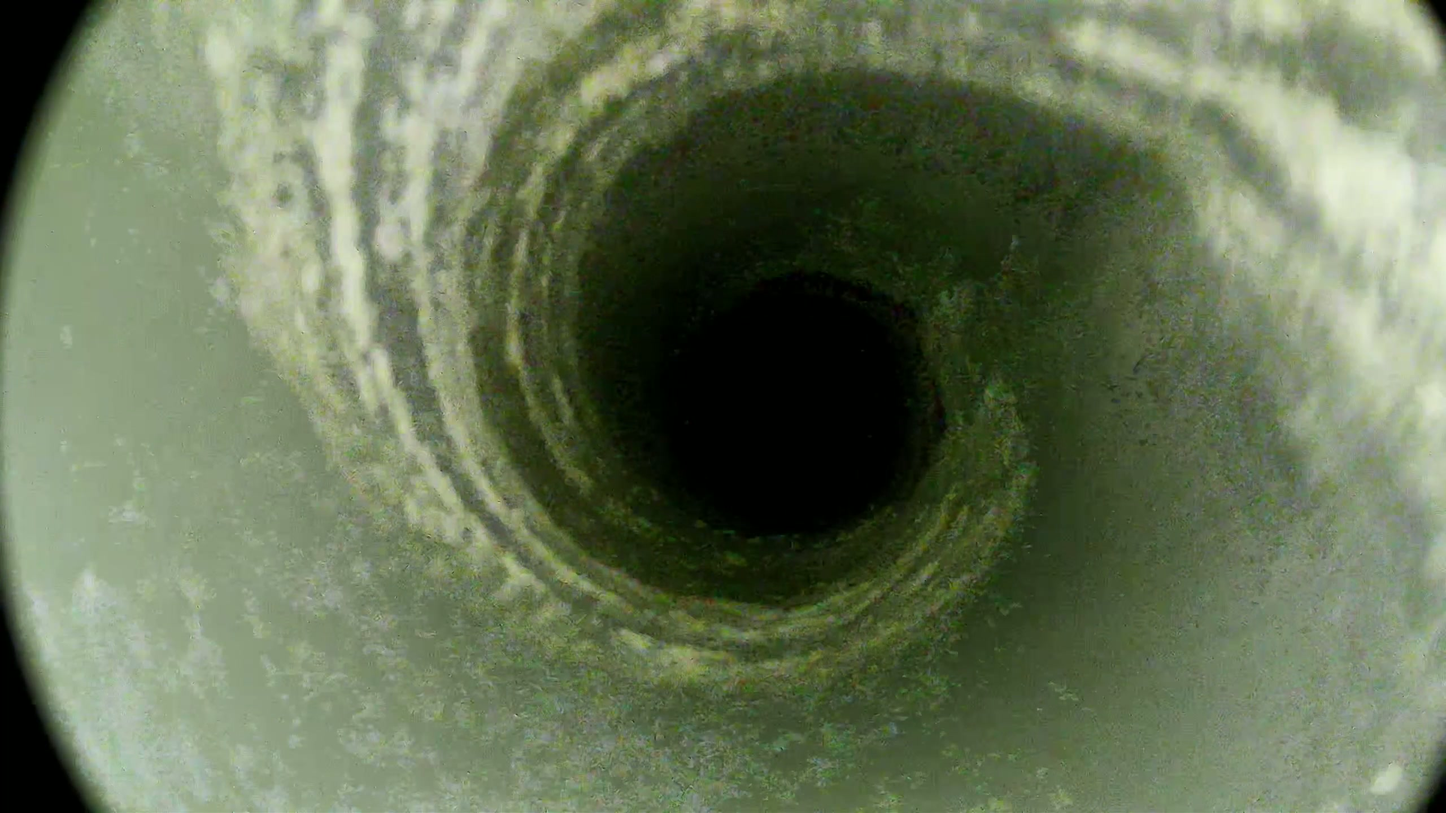hole: (671, 292, 903, 527)
